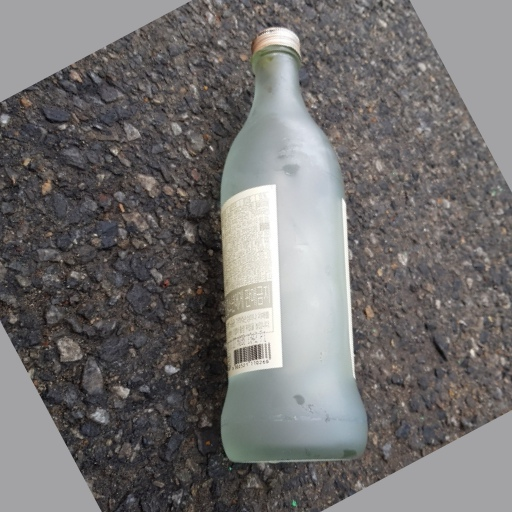Glass_0: (212, 28, 369, 465)
